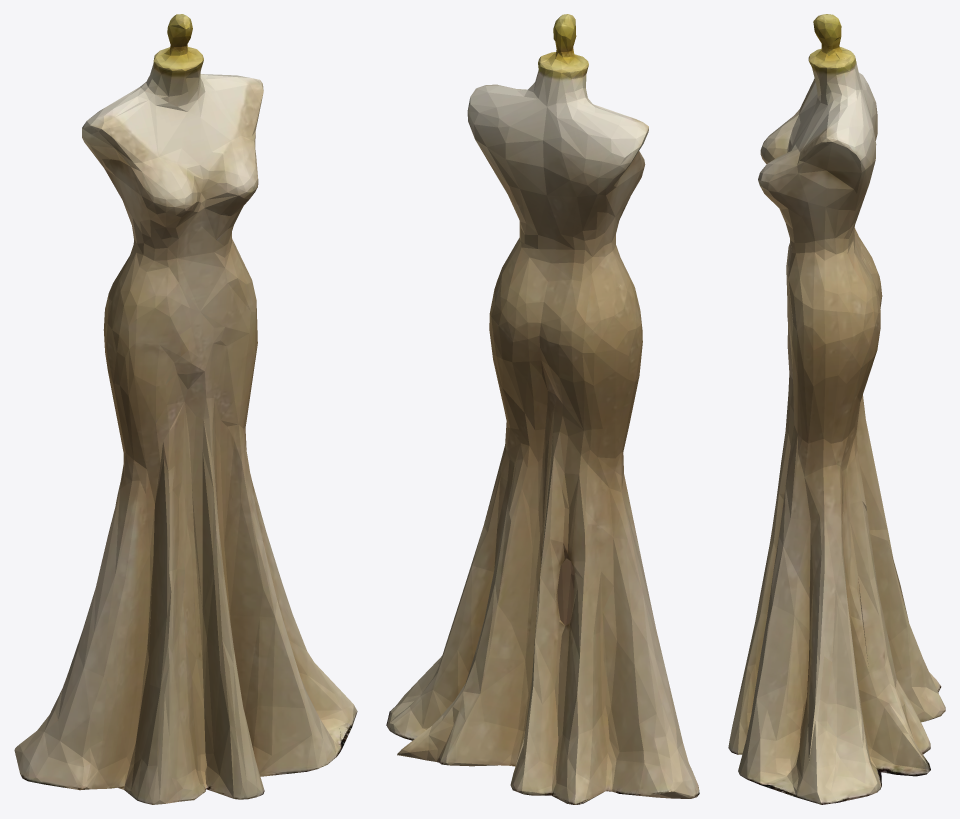
3 views of the same model, side by side, from view 1: azimuth 30°, elevation 25°; view 2: azimuth 150°, elevation 25°; view 3: azimuth 270°, elevation 25° (orthographic). The views are drawn at different scales.
Visible parts, largest first — view 1: geometry_0; view 2: geometry_0; view 3: geometry_0.
Boxes of the visible parts, x1=… form: geometry_0: x1=14, y1=14, x2=357, y2=804; geometry_0: x1=386, y1=14, x2=699, y2=804; geometry_0: x1=728, y1=14, x2=945, y2=804.
Size of the model in its own units: 0.4438 by 0.9998 by 0.2723.
1 material, 1 textured.
